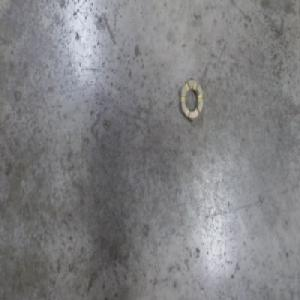Nut: (180, 75, 203, 122)
